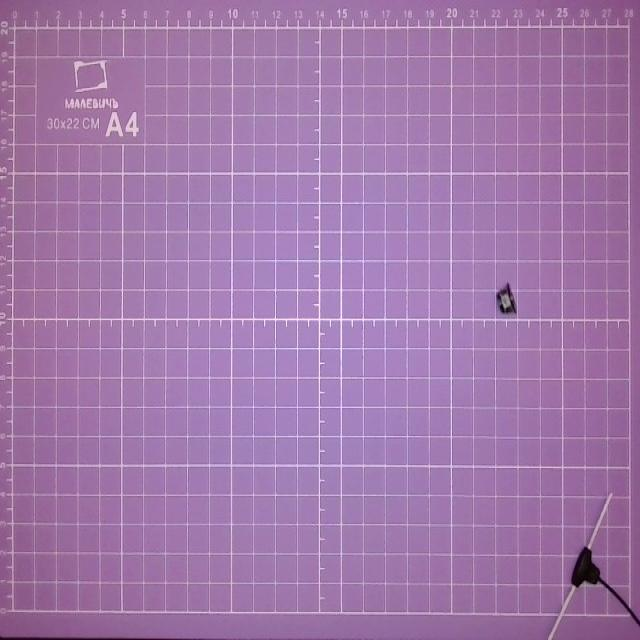antenna: (547, 489, 640, 639)
screw_M5: (488, 280, 524, 323)
